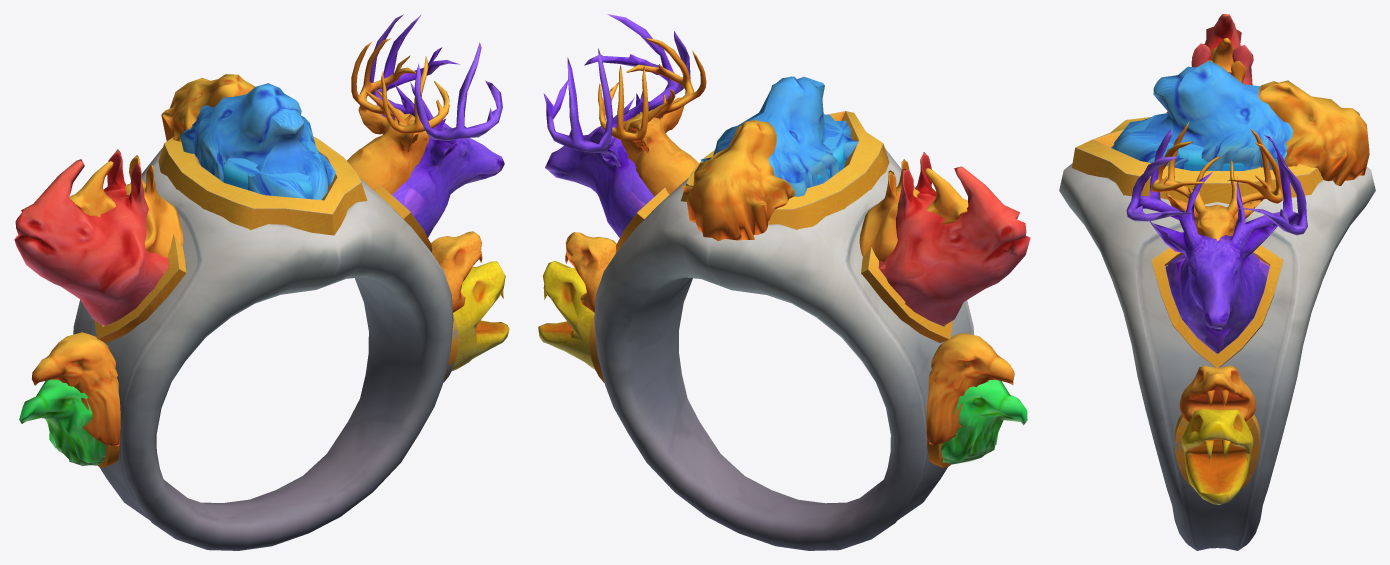
File: RING_LOW (2).fbx
3 renders of one model, left to right at view 1: azimuth 30°, elevation 25°; view 2: azimuth 150°, elevation 25°; view 3: azimuth 270°, elevation 25°, orthographic. The views are drawn at different scales.
Visible parts, largest first — view 1: ring_area_low, rhino_Low1, lion_Low1, deer_Low1, ring_slot_golden_1, deer_golden_low, Eagle_golden_low1, Eagle_Low1, Snake_Low1, rhino_golden_low1, lion_golden_low1, ring_slot_golden_2 (+3 smaller); view 2: ring_area_low, rhino_Low1, deer_Low1, lion_golden_low1, lion_Low1, deer_golden_low, Eagle_golden_low1, ring_slot_golden_1, Eagle_Low1, rhino_golden_low1, Snake_Low1, Snake_golden_low1 (+3 smaller); view 3: ring_area_low, deer_Low1, lion_Low1, lion_golden_low1, ring_slot_golden_1, Snake_Low1, deer_golden_low, ring_slot_golden_3, Snake_golden_low1, rhino_Low1, ring_slot_golden_4, blue (+2 smaller).
Part boxes in pixels (box(x1,y1,x2,y2)): ring_area_low: box(73, 148, 453, 550); rhino_Low1: box(14, 149, 168, 325); lion_Low1: box(180, 83, 335, 199); deer_Low1: box(369, 14, 504, 237); ring_slot_golden_1: box(158, 136, 367, 235); deer_golden_low: box(347, 38, 449, 194); Eagle_golden_low1: box(32, 332, 120, 446); Eagle_Low1: box(19, 379, 105, 465); Snake_Low1: box(452, 261, 509, 370); rhino_golden_low1: box(69, 155, 183, 257); lion_golden_low1: box(161, 74, 254, 142); ring_slot_golden_2: box(94, 234, 186, 342); ring_area_low: box(594, 148, 973, 550); rhino_Low1: box(878, 152, 1030, 326); deer_Low1: box(543, 14, 690, 237); lion_golden_low1: box(681, 119, 794, 240); lion_Low1: box(700, 76, 858, 196); deer_golden_low: box(598, 38, 706, 196); Eagle_golden_low1: box(926, 333, 1014, 445); ring_slot_golden_1: box(681, 111, 889, 229); Eagle_Low1: box(941, 379, 1027, 464); rhino_golden_low1: box(859, 159, 968, 261); Snake_Low1: box(538, 261, 594, 369); Snake_golden_low1: box(565, 232, 616, 312); ring_area_low: box(1059, 163, 1375, 550); deer_Low1: box(1126, 128, 1307, 352); lion_Low1: box(1111, 60, 1293, 170); lion_golden_low1: box(1257, 80, 1369, 185); ring_slot_golden_1: box(1072, 117, 1323, 204); Snake_Low1: box(1181, 409, 1253, 504); deer_golden_low: box(1151, 122, 1282, 240); ring_slot_golden_3: box(1151, 245, 1283, 367); Snake_golden_low1: box(1179, 365, 1255, 422); rhino_Low1: box(1166, 14, 1253, 113); ring_slot_golden_4: box(1174, 414, 1260, 488); blue: box(1118, 113, 1244, 170).
Bounding box in the file's own units: 38.69 × 35.41 × 21.23.
